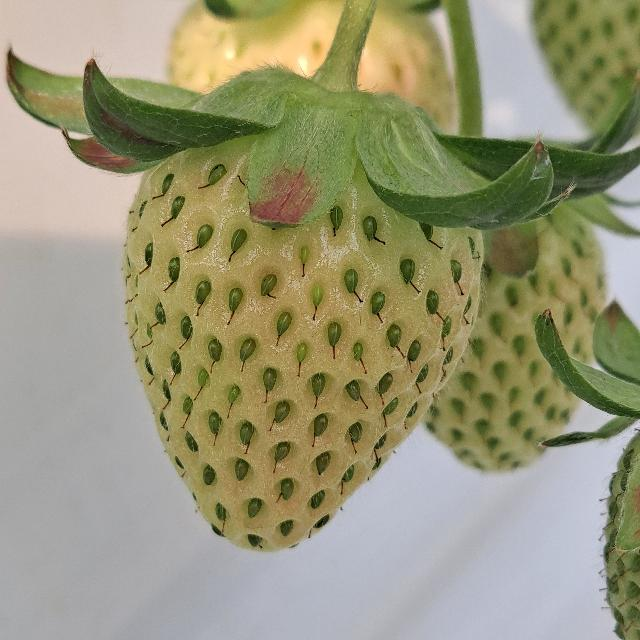Health_25: (121, 134, 482, 552), (416, 205, 608, 475)
